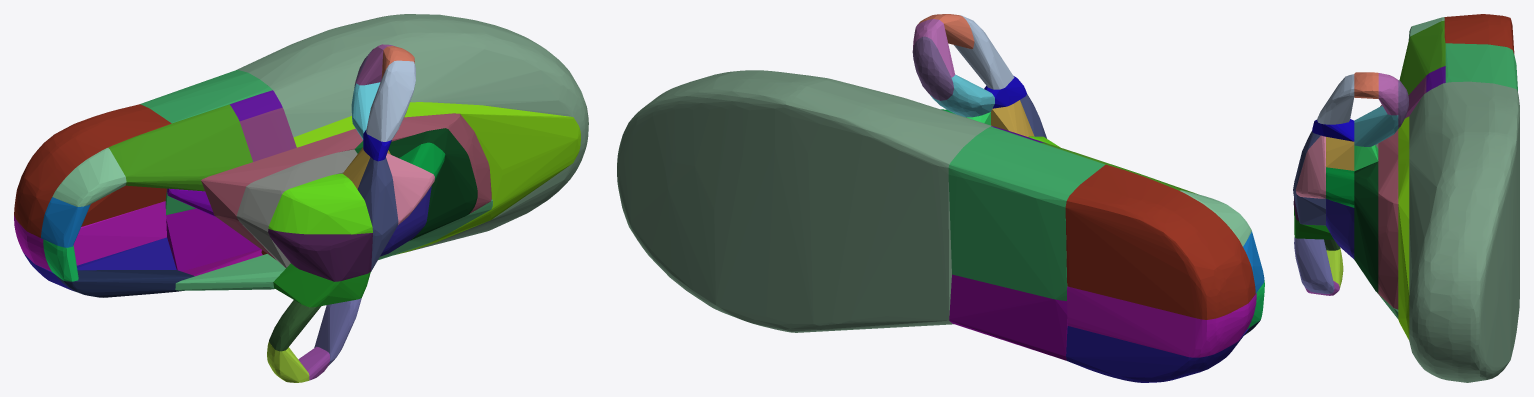
Rendered from coacd_collision.obj.
3 renders of one model, left to right at view 1: azimuth 30°, elevation 25°; view 2: azimuth 150°, elevation 25°; view 3: azimuth 270°, elevation 25°, orthographic. The views are drawn at different scales.
Visible parts, largest first — view 1: geometry_0, geometry_4, geometry_15, geometry_30, geometry_13, geometry_17, geometry_22, geometry_25, geometry_35, geometry_26, geometry_11, geometry_10 (+25 smaller); view 2: geometry_0, geometry_15, geometry_10, geometry_22, geometry_11, geometry_20, geometry_6, geometry_1, geometry_2, geometry_39, geometry_37, geometry_7 (+3 smaller); view 3: geometry_0, geometry_13, geometry_10, geometry_25, geometry_4, geometry_30, geometry_15, geometry_12, geometry_24, geometry_2, geometry_18, geometry_6 (+13 smaller).
Boxes of the visible parts, bbox=[...] form: geometry_0: bbox=[237, 14, 588, 252]; geometry_4: bbox=[293, 102, 580, 254]; geometry_15: bbox=[14, 104, 171, 237]; geometry_30: bbox=[108, 104, 252, 191]; geometry_13: bbox=[201, 113, 491, 259]; geometry_17: bbox=[268, 173, 372, 234]; geometry_22: bbox=[14, 201, 166, 271]; geometry_25: bbox=[388, 128, 477, 240]; geometry_35: bbox=[236, 149, 357, 267]; geometry_26: bbox=[268, 229, 372, 281]; geometry_11: bbox=[166, 208, 260, 271]; geometry_10: bbox=[140, 70, 272, 215]; geometry_0: bbox=[617, 70, 992, 332]; geometry_15: bbox=[1065, 164, 1255, 319]; geometry_10: bbox=[948, 126, 1105, 300]; geometry_22: bbox=[1067, 286, 1256, 357]; geometry_11: bbox=[949, 274, 1067, 360]; geometry_20: bbox=[1066, 326, 1249, 382]; geometry_6: bbox=[954, 15, 1014, 89]; geometry_1: bbox=[912, 36, 953, 100]; geometry_2: bbox=[930, 74, 994, 117]; geometry_39: bbox=[1180, 190, 1251, 246]; geometry_37: bbox=[991, 100, 1034, 136]; geometry_7: bbox=[912, 19, 955, 77]; geometry_0: bbox=[1409, 81, 1519, 382]; geometry_13: bbox=[1378, 105, 1398, 309]; geometry_10: bbox=[1445, 43, 1517, 91]; geometry_25: bbox=[1354, 161, 1378, 293]; geometry_4: bbox=[1398, 116, 1409, 340]; geometry_30: bbox=[1399, 20, 1445, 95]; geometry_15: bbox=[1444, 14, 1514, 53]; geometry_12: bbox=[1294, 237, 1334, 293]; geometry_24: bbox=[1296, 135, 1325, 198]; geometry_2: bbox=[1354, 105, 1398, 146]; geometry_18: bbox=[1326, 199, 1354, 259]; geometry_6: bbox=[1317, 74, 1354, 124].
Bounding box in the file's own units: 243 × 120 × 89.28.
